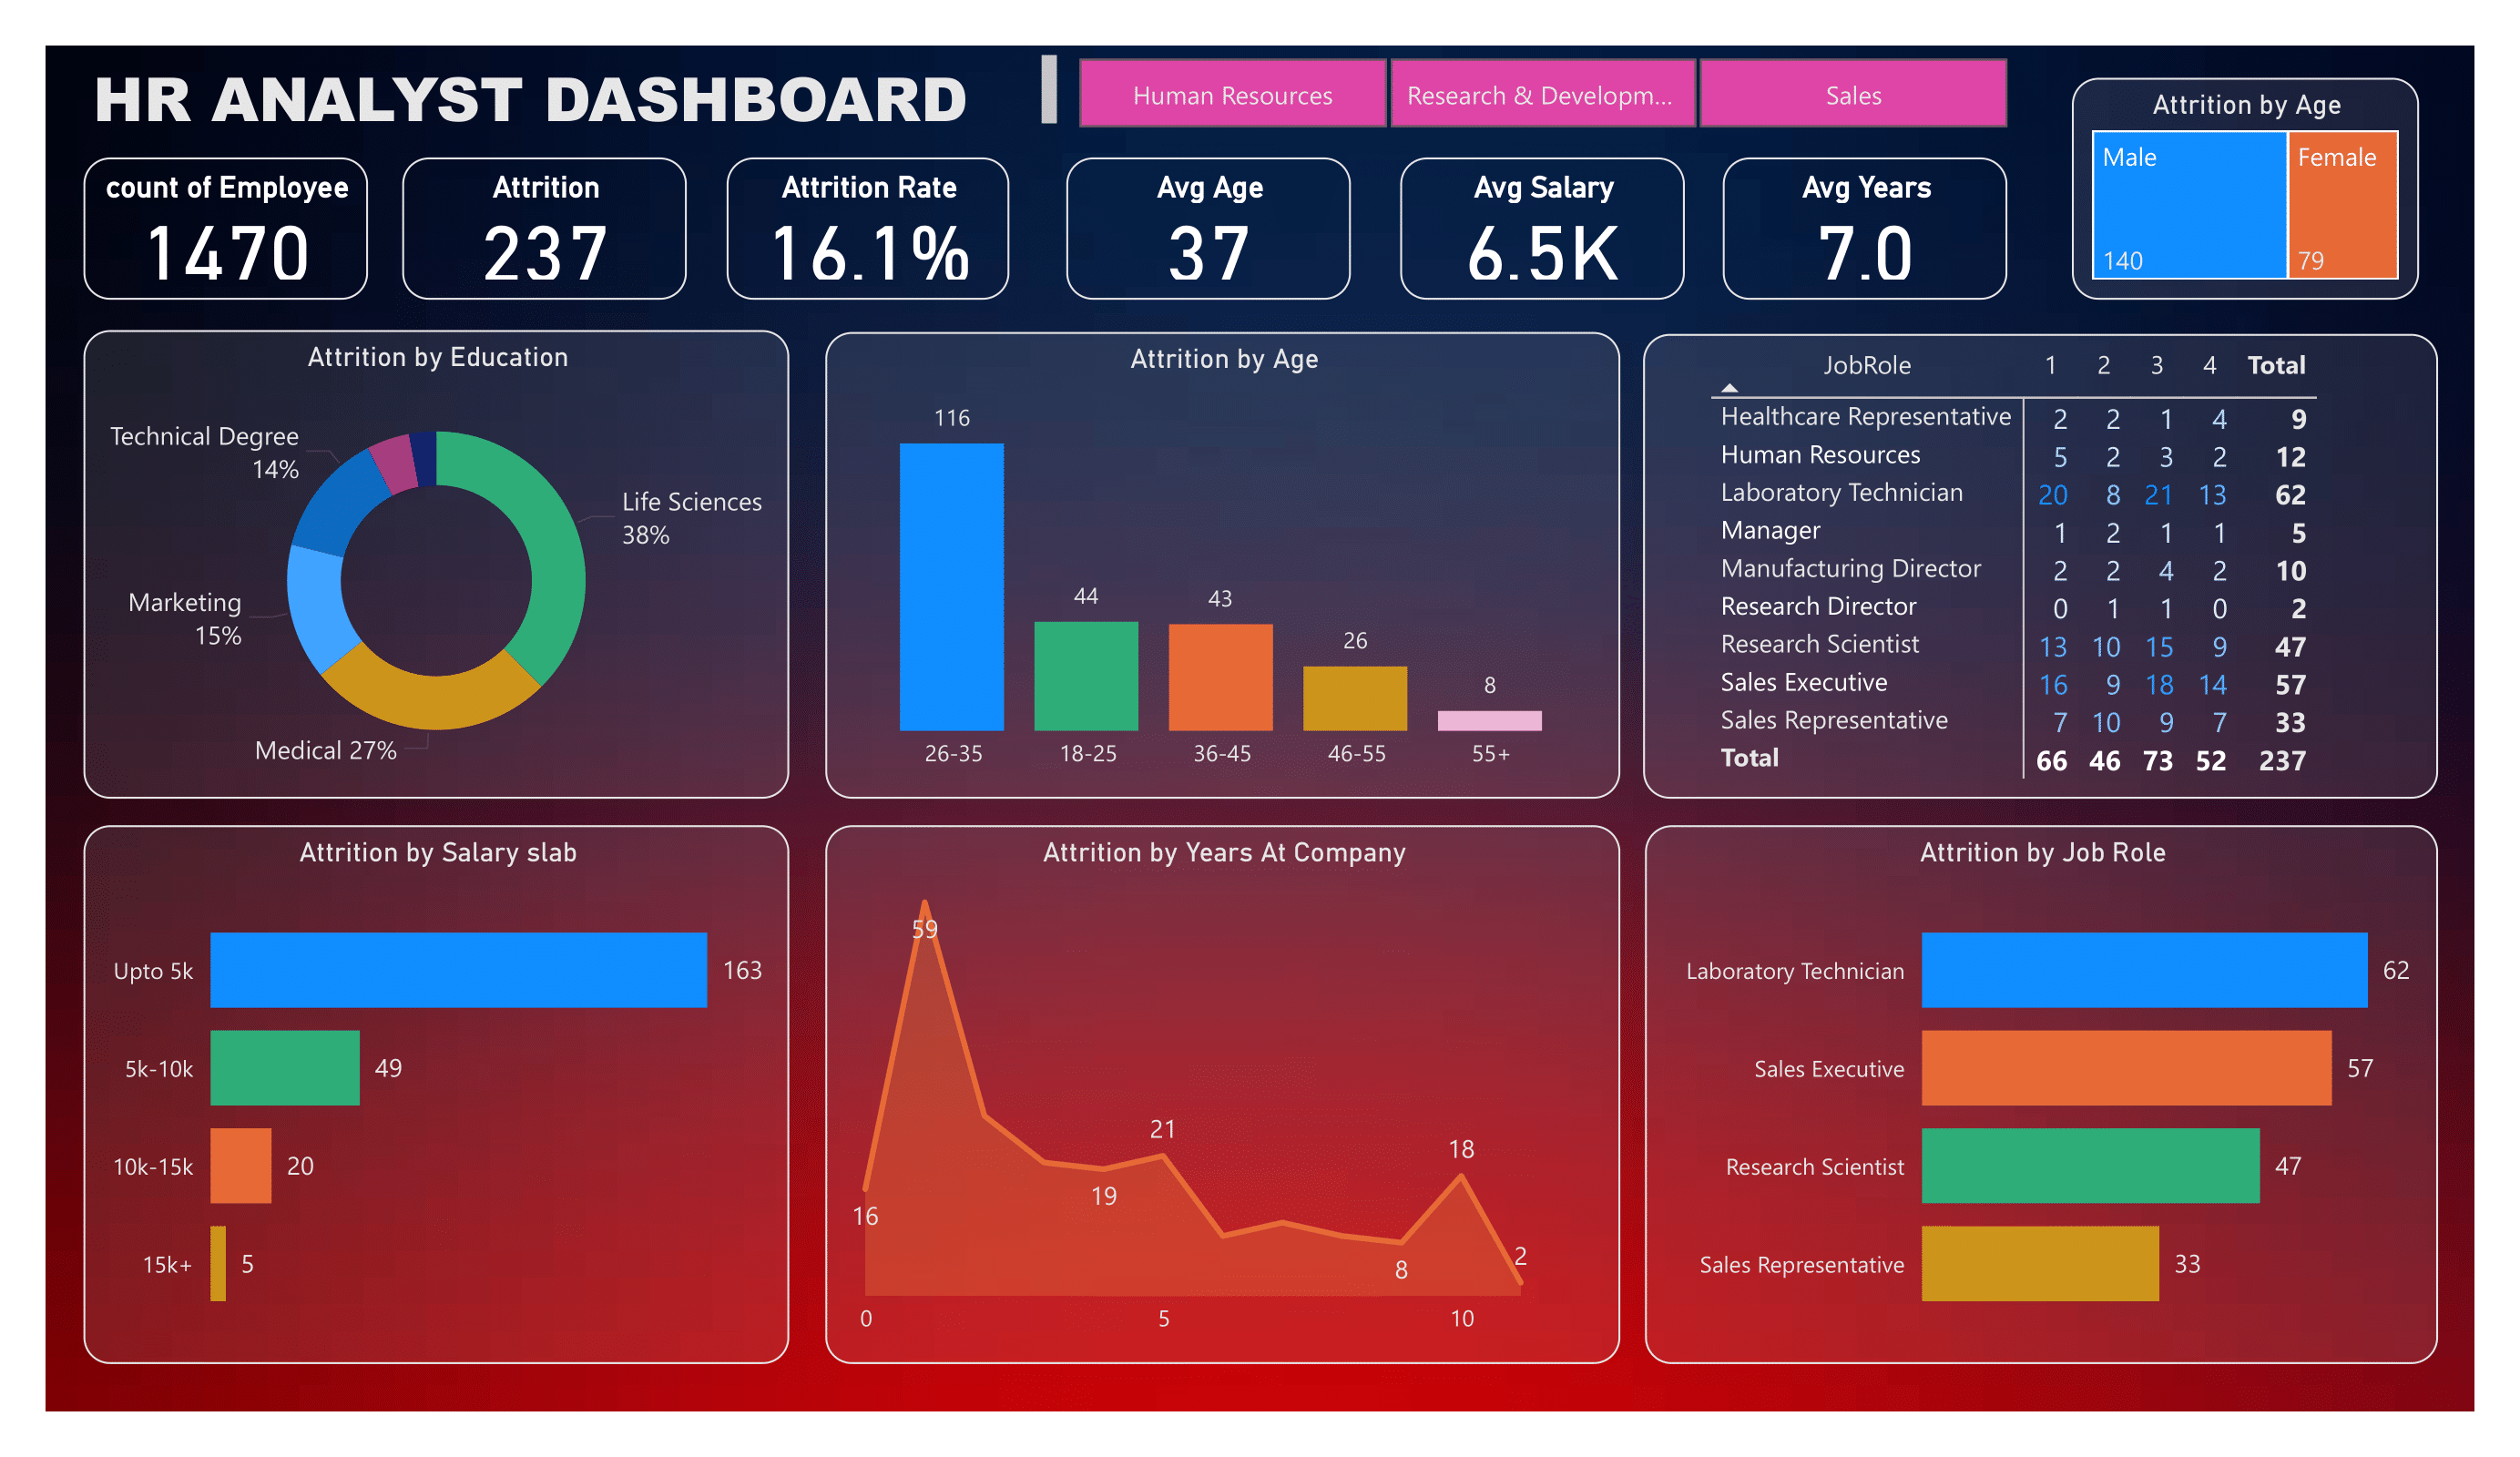

This screenshot's page, from the dashboard's own definition file:
{"tool":"powerbi","page":{"name":"Page 1","canvas":[1280,720],"ordinal":0},"visuals":[{"type":"card","title":"count of Employee","fields":{"Values":["CountNonNull(HR_Analytics.EmpID)"]},"box":[20,60,150,75],"z":0},{"type":"shape","box":[842.1,152,418.6,244.9],"z":500},{"type":"card","title":"Attrition","fields":{"Values":["Sum(HR_Analytics.AttritionCount)"]},"box":[195,59,150,75],"z":1000},{"type":"card","title":"Attrition Rate","fields":{"Values":["HR_Analytics.AttritionRate"]},"box":[368,60,151,75],"z":2000},{"type":"card","title":"Avg Age","fields":{"Values":["Avg(HR_Analytics.Age)"]},"box":[538,60,150,75],"z":3000},{"type":"card","title":"Avg Salary","fields":{"Values":["Avg(HR_Analytics.MonthlyIncome)"]},"box":[708,60,150,75],"z":4000},{"type":"card","title":"Avg Years","fields":{"Values":["Avg(HR_Analytics.YearsAtCompany)"]},"box":[875,59,156,76],"z":5000},{"type":"donutChart","title":"Attrition  by Education","fields":{"Category":["HR_Analytics.EducationField"],"Y":["Sum(HR_Analytics.AttritionCount)"]},"box":[20.2,150,372.2,246.7],"z":6000},{"type":"columnChart","title":"Attrition  by Age","fields":{"Category":["HR_Analytics.AgeGroup"],"Y":["Sum(HR_Analytics.AttritionCount)"]},"box":[411.2,151.5,418.4,245.3],"z":7000},{"type":"pivotTable","fields":{"Rows":["HR_Analytics.JobRole"],"Columns":["HR_Analytics.JobSatisfaction"],"Values":["Sum(HR_Analytics.AttritionCount)"]},"box":[857.8,152,387.3,244.9],"z":8000},{"type":"barChart","title":"Attrition  by Salary slab","fields":{"Category":["HR_Analytics.SalarySlab"],"Y":["Sum(HR_Analytics.AttritionCount)"]},"box":[20.2,411.2,372.2,284.2],"z":9000},{"type":"barChart","title":"Attrition  by Job Role","fields":{"Category":["HR_Analytics.JobRole"],"Y":["Sum(HR_Analytics.AttritionCount)"]},"box":[842.6,411.2,418.4,284.2],"z":10000},{"type":"areaChart","title":"Attrition  by Years At Company","fields":{"Category":["HR_Analytics.YearsAtCompany"],"Y":["Sum(HR_Analytics.AttritionCount)"]},"box":[411.2,411.2,418.4,284.2],"z":11000},{"type":"treemap","title":"Attrition  by Age","fields":{"Group":["HR_Analytics.Gender"],"Values":["Sum(HR_Analytics.AttritionCount)"]},"box":[1067.6,17.3,183.2,116.9],"z":12000},{"type":"slicer","fields":{"Values":["HR_Analytics.Department"]},"box":[519.4,0,538.2,50.5],"z":13000},{"type":"textbox","box":[20.2,0,518,50.5],"z":14000}]}

Visuals, with their boxes in screenshot pixels (x1, y1, x2, y2):
"count of Employee" card: {"x1": 84, "y1": 159, "x2": 368, "y2": 301}
shape: {"x1": 1644, "y1": 334, "x2": 2438, "y2": 799}
"Attrition" card: {"x1": 415, "y1": 158, "x2": 700, "y2": 300}
"Attrition Rate" card: {"x1": 744, "y1": 159, "x2": 1030, "y2": 301}
"Avg Age" card: {"x1": 1066, "y1": 159, "x2": 1352, "y2": 301}
"Avg Salary" card: {"x1": 1389, "y1": 159, "x2": 1674, "y2": 301}
"Avg Years" card: {"x1": 1706, "y1": 158, "x2": 2002, "y2": 301}
"Attrition  by Education" donutChart: {"x1": 84, "y1": 330, "x2": 791, "y2": 798}
"Attrition  by Age" columnChart: {"x1": 826, "y1": 333, "x2": 1620, "y2": 799}
pivotTable - HR_Analytics.JobRole x HR_Analytics.JobSatisfaction: {"x1": 1673, "y1": 334, "x2": 2408, "y2": 799}
"Attrition  by Salary slab" barChart: {"x1": 84, "y1": 826, "x2": 791, "y2": 1365}
"Attrition  by Job Role" barChart: {"x1": 1645, "y1": 826, "x2": 2438, "y2": 1365}
"Attrition  by Years At Company" areaChart: {"x1": 826, "y1": 826, "x2": 1620, "y2": 1365}
"Attrition  by Age" treemap: {"x1": 2071, "y1": 78, "x2": 2419, "y2": 301}
slicer - HR_Analytics.Department: {"x1": 1031, "y1": 46, "x2": 2053, "y2": 141}
textbox: {"x1": 84, "y1": 46, "x2": 1066, "y2": 141}
